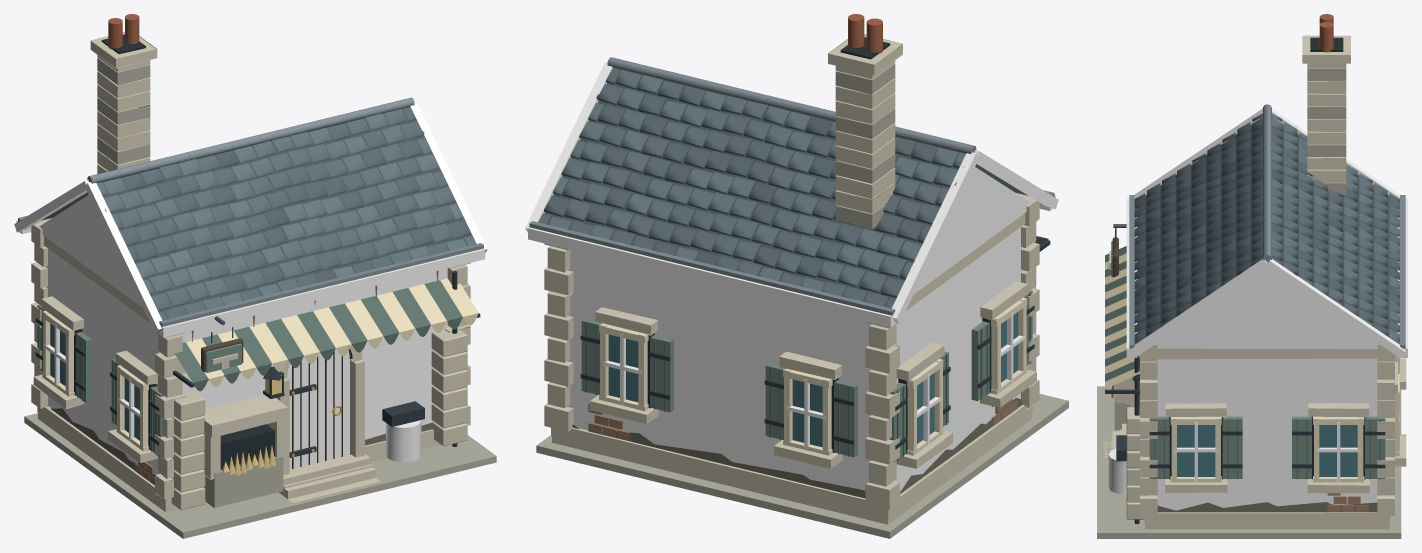
Rendered from forge.glb.
3 views of the same model, side by side, from view 1: azimuth 30°, elevation 25°; view 2: azimuth 150°, elevation 25°; view 3: azimuth 270°, elevation 25° (orthographic). The views are drawn at different scales.
Parts seen in each view (by area): view 1: SourceMesh_00056, SourceMesh_00005, SourceMesh_00047, SourceMesh_00000, SourceMesh_00096, SourceMesh_00050, SourceMesh_00048, SourceMesh_00253, SourceMesh_00257, SourceMesh_00049, SourceMesh_00006, SourceMesh_00052 (+53 smaller); view 2: SourceMesh_00056, SourceMesh_00005, SourceMesh_00044, SourceMesh_00000, SourceMesh_00006, SourceMesh_00050, SourceMesh_00045, SourceMesh_00001, SourceMesh_00046, SourceMesh_00051, SourceMesh_00310, SourceMesh_00054 (+42 smaller); view 3: SourceMesh_00056, SourceMesh_00005, SourceMesh_00053, SourceMesh_00000, SourceMesh_00047, SourceMesh_00044, SourceMesh_00006, SourceMesh_00007, SourceMesh_00054, SourceMesh_00055, SourceMesh_00128, SourceMesh_00168 (+34 smaller).
Boxes of the visible parts, left/top/right/bottom form: SourceMesh_00056: left=96, top=107, right=475, bottom=320; SourceMesh_00005: left=45, top=248, right=451, bottom=480; SourceMesh_00047: left=102, top=109, right=469, bottom=319; SourceMesh_00000: left=24, top=413, right=496, bottom=538; SourceMesh_00096: left=287, top=348, right=349, bottom=469; SourceMesh_00050: left=38, top=195, right=142, bottom=307; SourceMesh_00048: left=158, top=248, right=485, bottom=337; SourceMesh_00253: left=204, top=456, right=283, bottom=508; SourceMesh_00257: left=204, top=394, right=288, bottom=437; SourceMesh_00049: left=159, top=243, right=483, bottom=326; SourceMesh_00006: left=37, top=405, right=434, bottom=505; SourceMesh_00052: left=85, top=182, right=162, bottom=333; SourceMesh_00056: left=538, top=68, right=965, bottom=308; SourceMesh_00005: left=558, top=226, right=1025, bottom=491; SourceMesh_00044: left=544, top=70, right=959, bottom=306; SourceMesh_00000: left=536, top=394, right=1068, bottom=538; SourceMesh_00006: left=551, top=405, right=1032, bottom=517; SourceMesh_00050: left=914, top=167, right=1030, bottom=293; SourceMesh_00045: left=528, top=227, right=896, bottom=327; SourceMesh_00001: left=552, top=413, right=1031, bottom=524; SourceMesh_00046: left=529, top=221, right=895, bottom=315; SourceMesh_00051: left=892, top=152, right=978, bottom=323; SourceMesh_00310: left=572, top=424, right=865, bottom=500; SourceMesh_00054: left=525, top=62, right=612, bottom=232; SourceMesh_00056: left=1134, top=113, right=1399, bottom=344; SourceMesh_00005: left=1149, top=348, right=1385, bottom=510; SourceMesh_00053: left=1157, top=269, right=1377, bottom=348; SourceMesh_00000: left=1097, top=386, right=1401, bottom=538; SourceMesh_00047: left=1137, top=117, right=1262, bottom=337; SourceMesh_00044: left=1272, top=117, right=1397, bottom=337; SourceMesh_00006: left=1144, top=512, right=1390, bottom=522; SourceMesh_00007: left=1157, top=348, right=1377, bottom=359; SourceMesh_00054: left=1265, top=259, right=1405, bottom=357; SourceMesh_00055: left=1129, top=259, right=1268, bottom=357; SourceMesh_00128: left=1319, top=425, right=1357, bottom=476; SourceMesh_00168: left=1177, top=425, right=1215, bottom=476.
Bounding box in the file's own units: 5.99 × 7.25 × 5.11.
